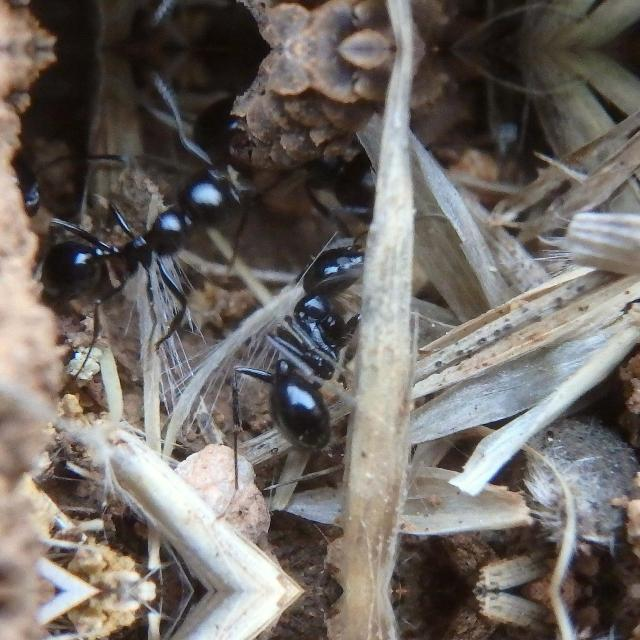Messor: (6, 158, 258, 320), (241, 219, 373, 453)
